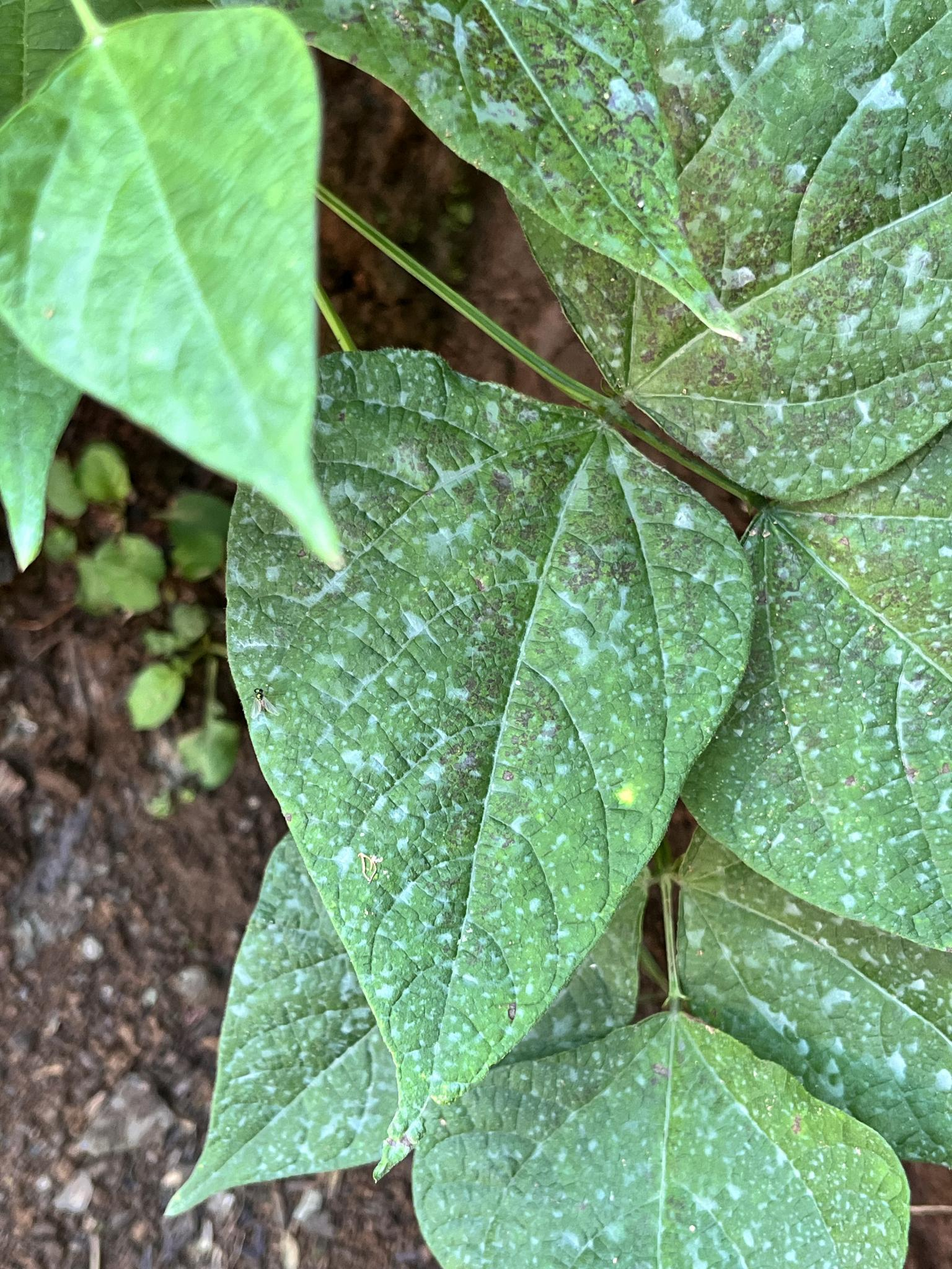embun tepung: (230, 348, 759, 1160)
